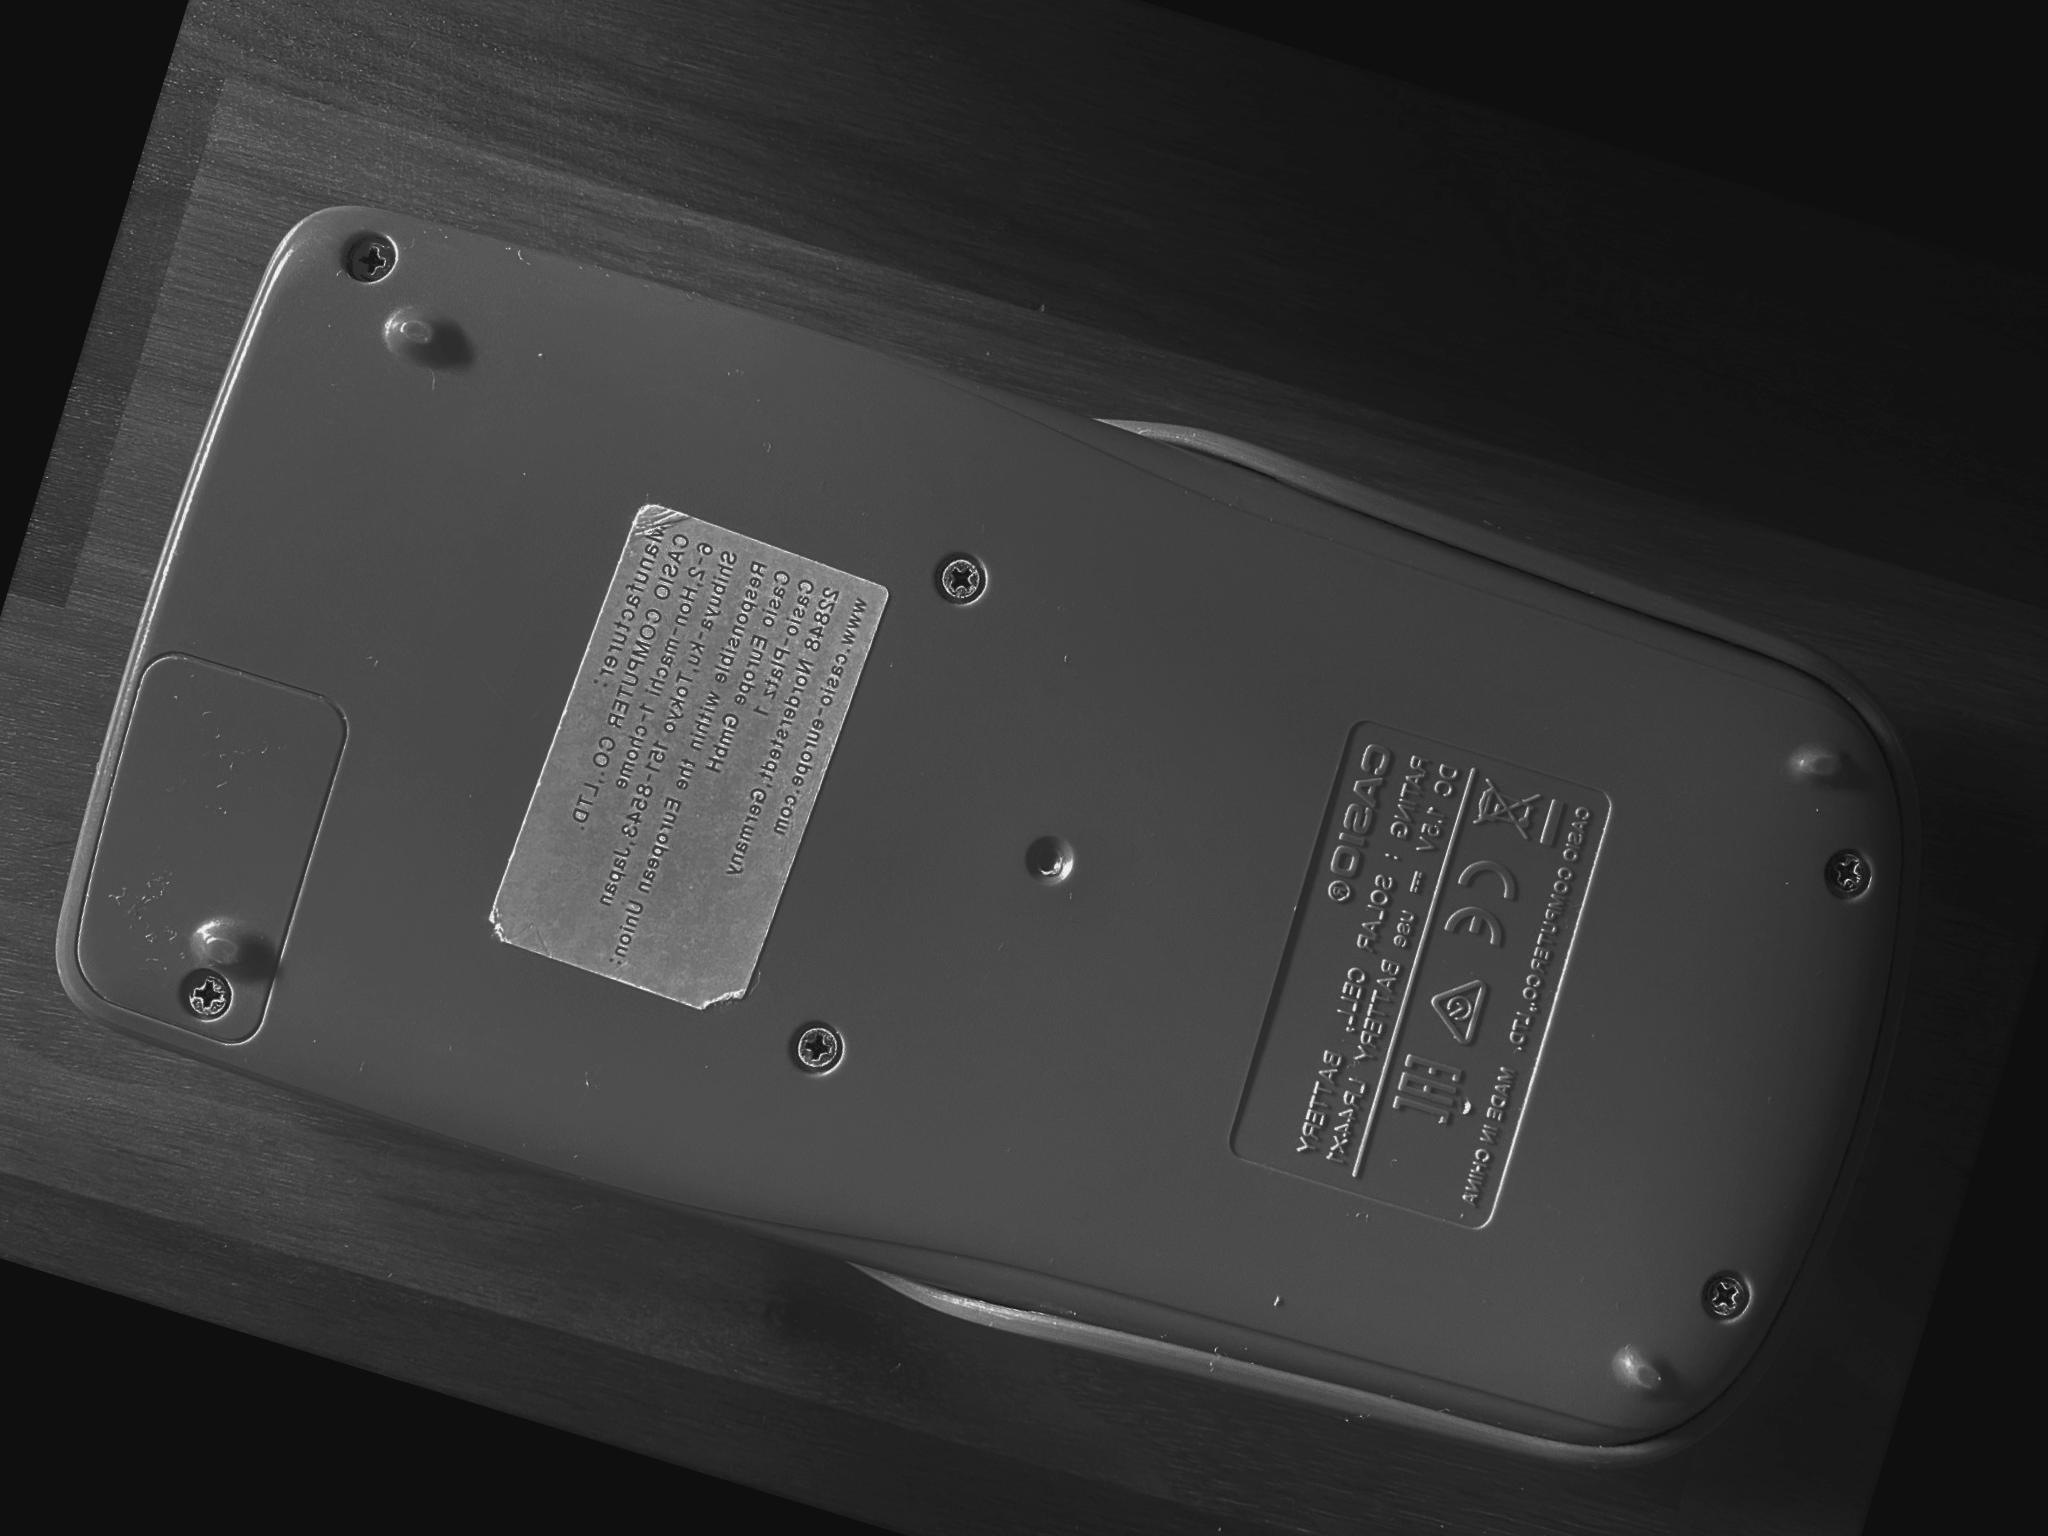screw: (337, 229, 402, 294), (1821, 844, 1880, 905), (176, 966, 239, 1025), (790, 1018, 847, 1078), (932, 550, 989, 608), (1703, 1273, 1750, 1323)
